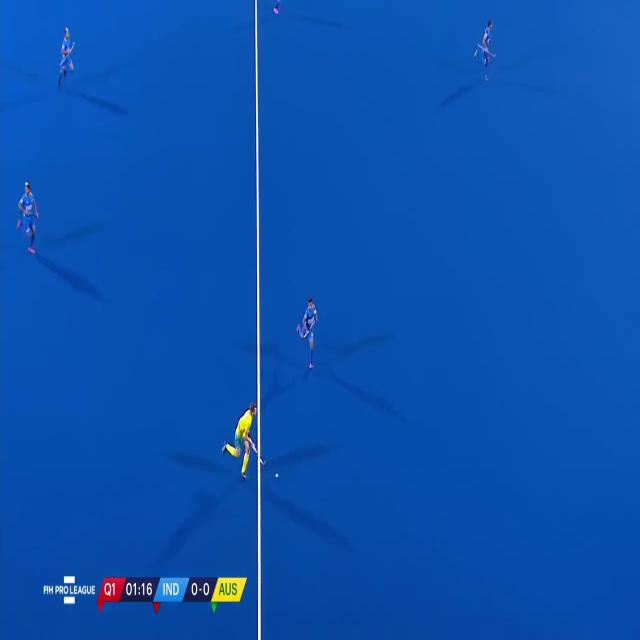ball: (274, 471, 280, 479)
